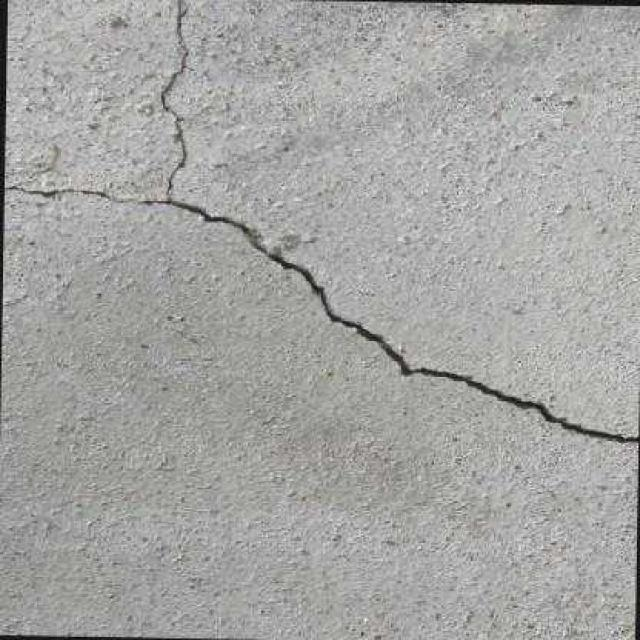D00: (2, 5, 638, 443)
